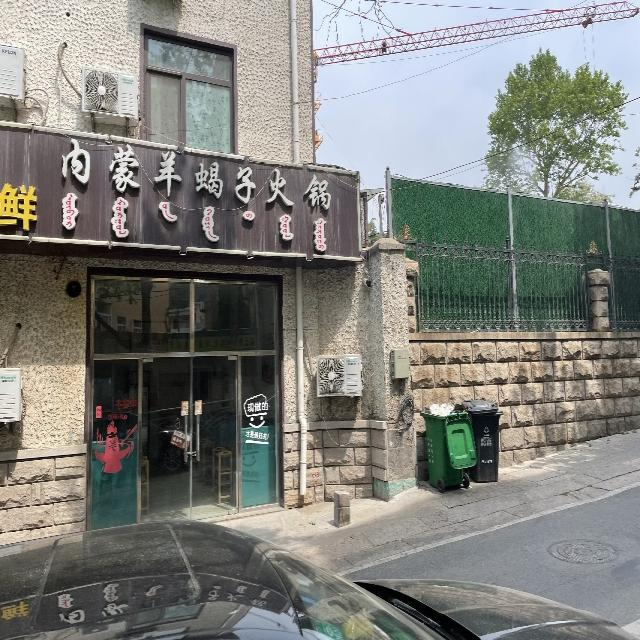garbage_bin: (461, 397, 503, 482)
overflow: (419, 403, 476, 488)
